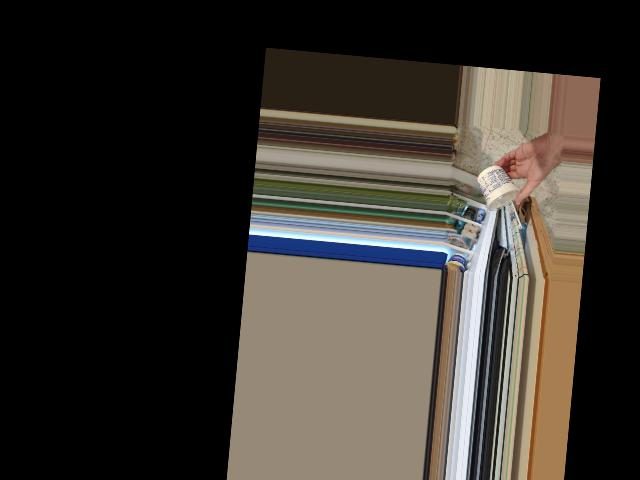cotage: (479, 162, 526, 210)
